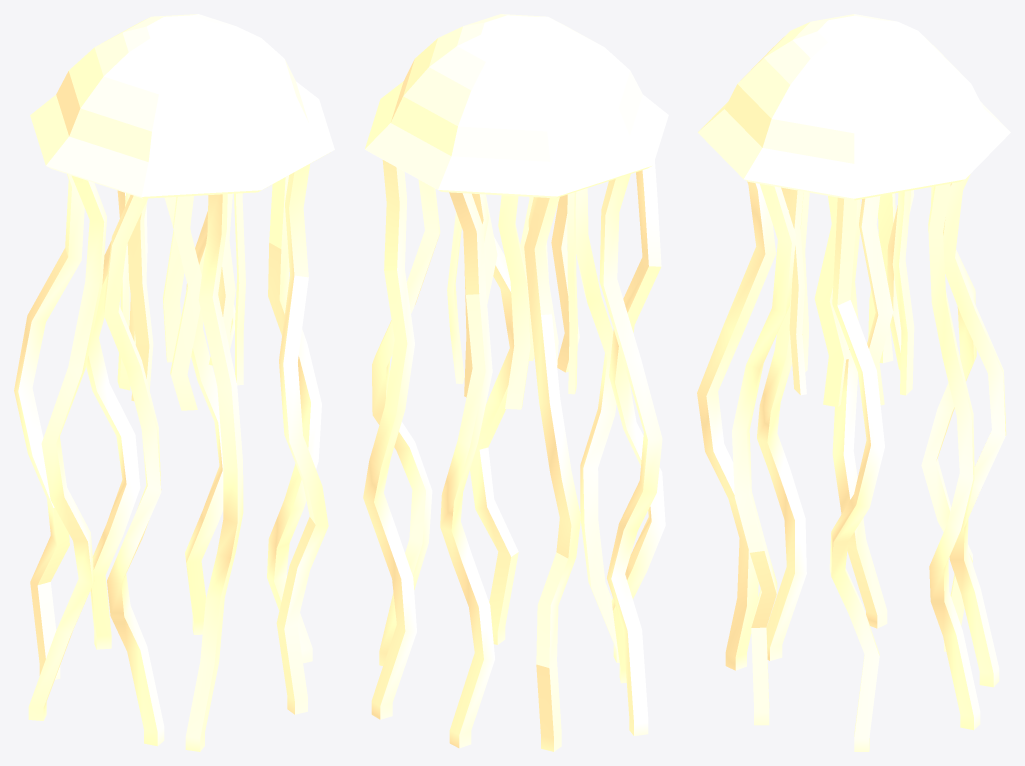
The model's file is jellyfishYellow.fbx.
The picture shows the model from 3 angles, left to right: view 1: azimuth 30°, elevation 25°; view 2: azimuth 150°, elevation 25°; view 3: azimuth 270°, elevation 25°; orthographic projection.
Visible parts, largest first — view 1: pCylinder3, pCube54, pCube56, pCube45, pCube53, pCube49, pCube55, pCube52, pCube50, pCube51, pCube57, pCube48 (+3 smaller); view 2: pCylinder3, pCube49, pCube52, pCube50, pCube53, pCube45, pCube54, pCube55, pCube56, pasted__pCube34, pCube51, pCube57 (+3 smaller); view 3: pCylinder3, pCube55, pCube50, pCube56, pCube54, pCube52, pCube45, pCube53, pCube49, pCube47, pCube46, pCube48 (+4 smaller).
Part boxes in pixels (x1,y1,x2,y2): pCylinder3: (30,14,334,198); pCube54: (185,194,243,751); pCube56: (276,164,328,714); pCube45: (104,195,164,746); pCube53: (28,175,106,720); pCube49: (14,174,84,679); pCube55: (267,175,321,663); pCube52: (86,190,140,649); pCube50: (185,211,223,634); pCube51: (170,196,201,410); pCube57: (127,200,153,400); pCube48: (163,197,190,362); pCylinder3: (365,14,668,198); pCube49: (524,197,581,751); pCube52: (440,192,494,748); pCube50: (363,160,416,719); pCube53: (599,174,662,735); pCube45: (609,160,665,683); pCube54: (575,188,619,662); pCube55: (372,179,440,665); pCube56: (470,237,518,644); pasted__pCube34: (498,195,531,409); pCube51: (551,194,579,372); pCube57: (567,192,577,394); pCylinder3: (698,14,1010,200); pCube55: (829,197,884,751); pCube50: (928,183,980,730); pCube56: (732,184,795,725); pCube54: (697,181,775,670); pCube52: (943,174,1006,687); pCube45: (757,187,806,660); pCube53: (832,199,887,628); pCube49: (921,186,976,651); pCube47: (859,196,893,405); pCube46: (814,196,846,407); pCube48: (892,190,914,395).
Size of the model in its own units: 1.95 by 4.35 by 1.88.
